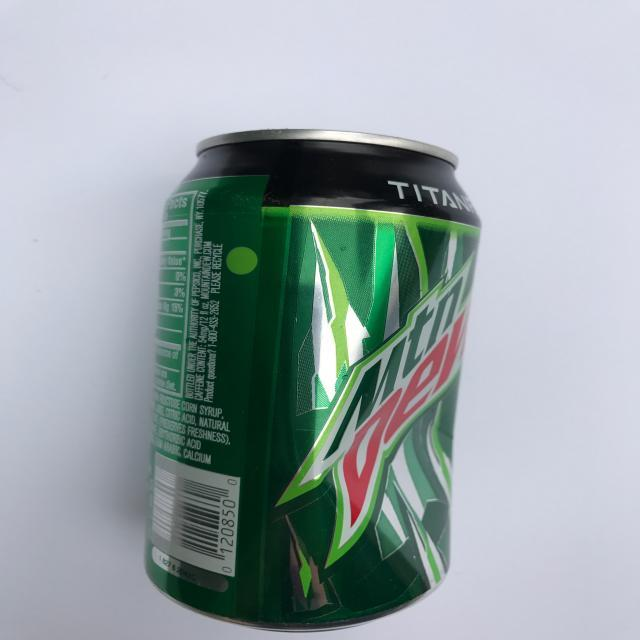metal: (142, 129, 483, 636)
